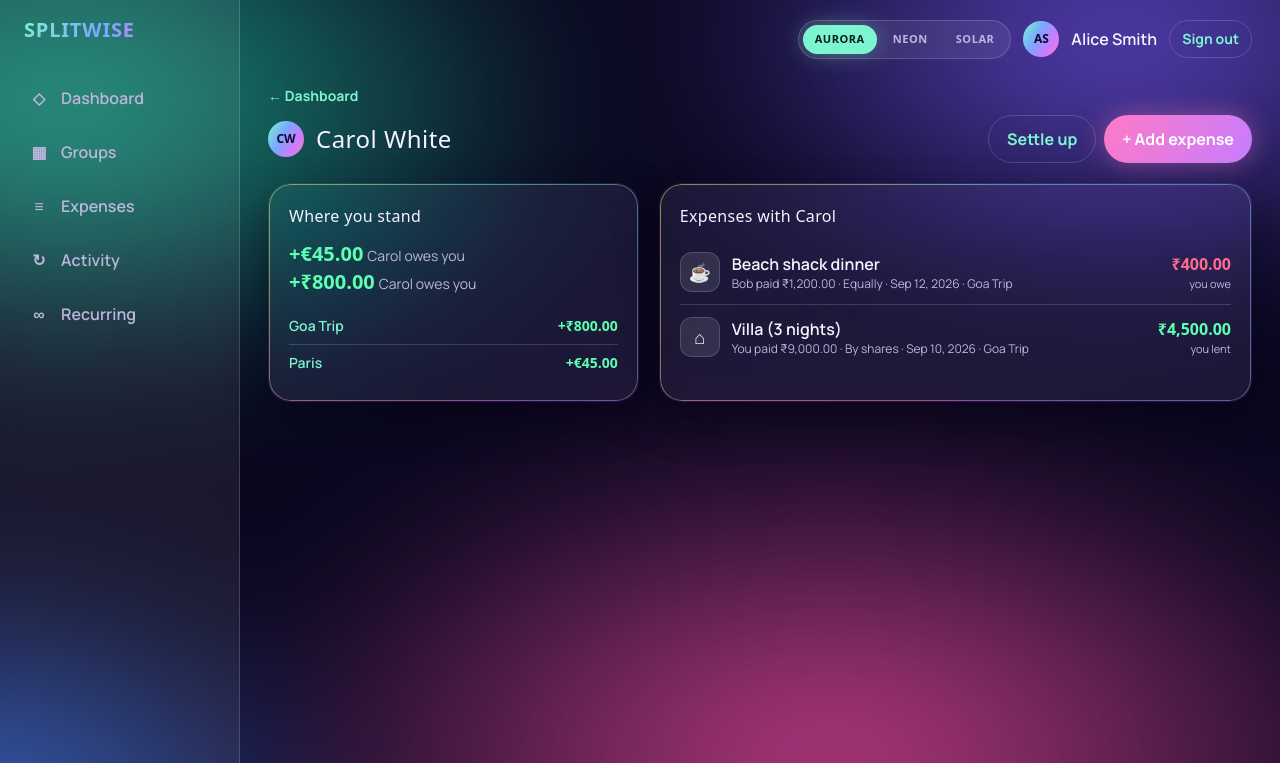
Test: a friend's page › starts an expense outside groups with the friend already in it
Click the button "+ Add expense".
click(1178, 138)  # box [1104,114,1252,162]
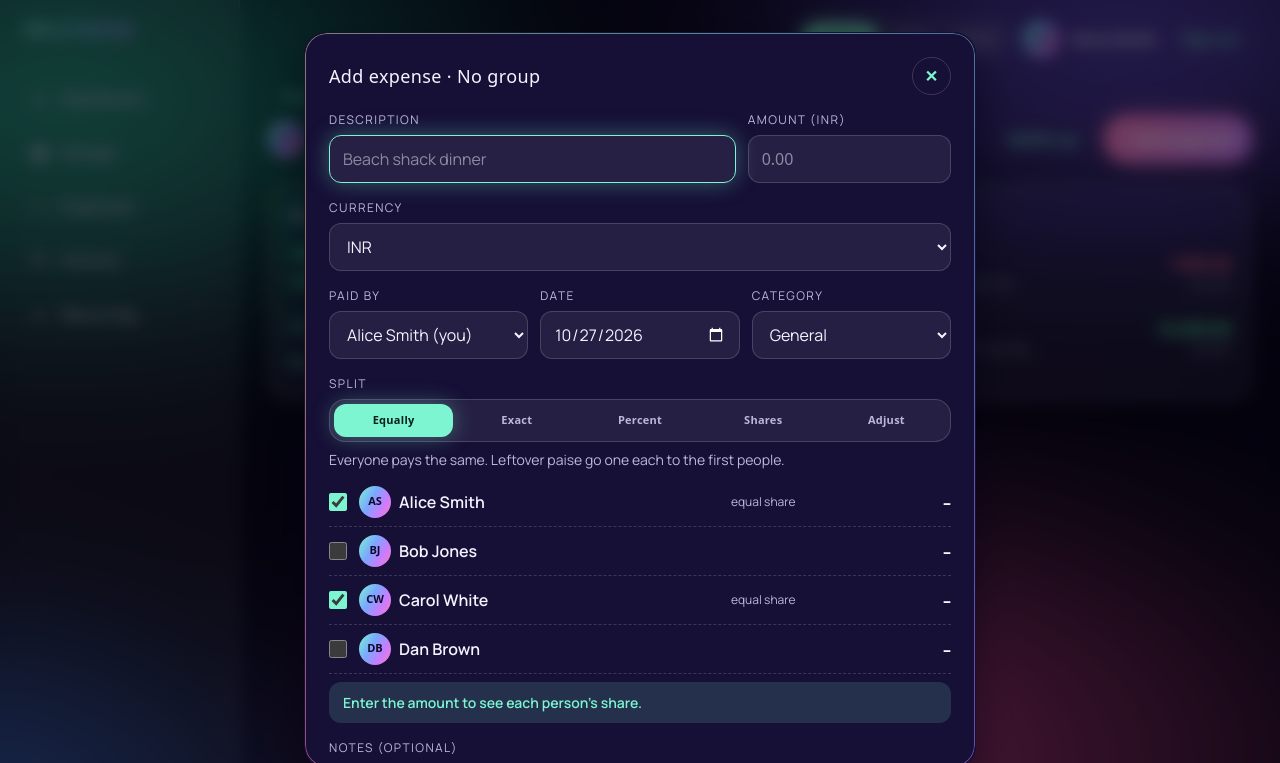
Expected: the checkbox named "Include Carol White" is checked, [329,590,347,608]
Expected: the checkbox named "Include Alice Smith" is checked, [329,492,347,510]
